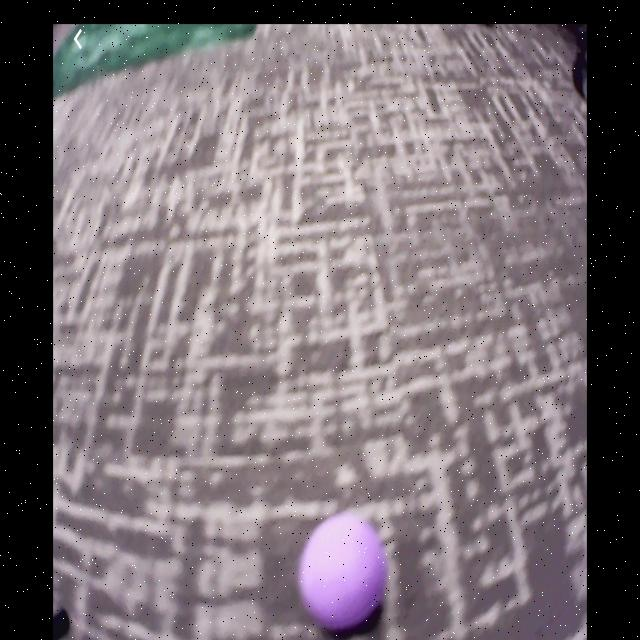ball: (301, 514, 388, 635)
